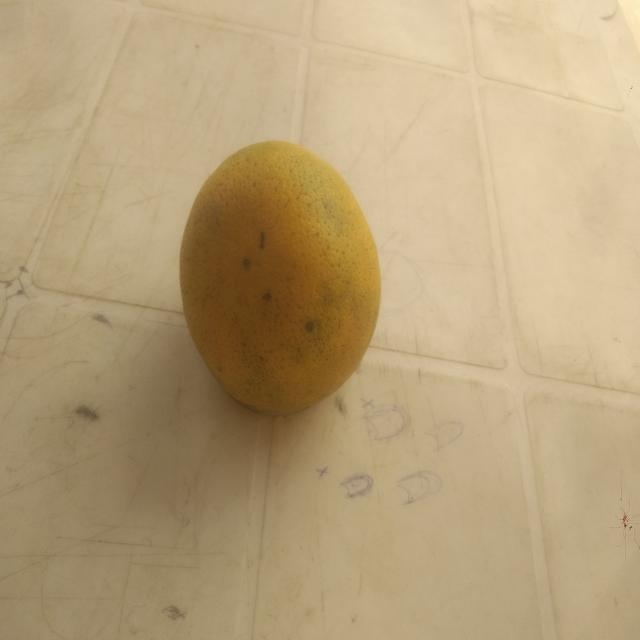agrume: (158, 130, 394, 454)
